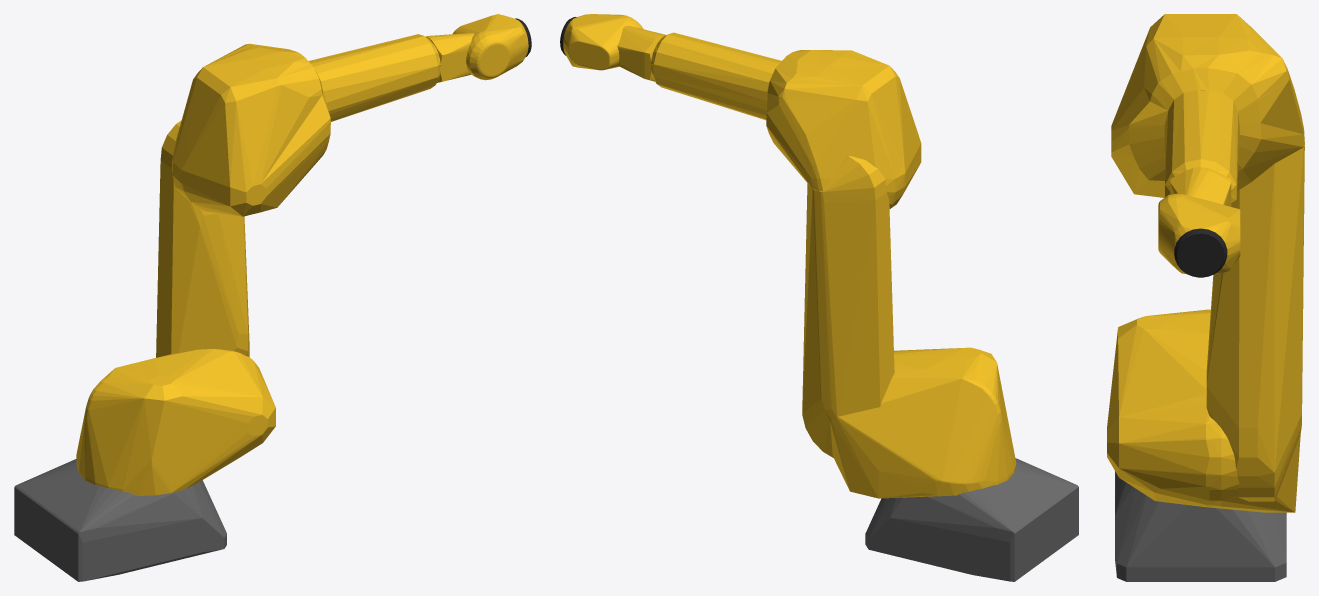
3 renders of one model, left to right at view 1: azimuth 30°, elevation 25°; view 2: azimuth 150°, elevation 25°; view 3: azimuth 270°, elevation 25°, orthographic. The views are drawn at different scales.
Parts seen in each view (by area): view 1: link_3, link_1, base_link, link_2, link_5, link_4; view 2: link_3, link_2, link_1, base_link, link_5, link_4; view 3: link_3, link_2, link_1, base_link, link_5, link_6, link_4.
Boxes of the visible parts, x1,y1,x2,y2 form: link_3: (172,34,440,216); link_1: (76,349,275,495); base_link: (14,459,226,581); link_2: (156,120,249,357); link_5: (452,14,528,80); link_4: (425,33,474,82); link_3: (651,32,921,208); link_2: (802,156,894,457); link_1: (830,347,1016,498); base_link: (865,458,1078,581); link_5: (563,14,643,70); link_4: (617,25,666,81); link_3: (1111,14,1304,207); link_2: (1206,142,1304,501); link_1: (1107,309,1300,512); base_link: (1115,471,1286,581); link_5: (1158,193,1240,274); link_6: (1174,228,1227,277); link_4: (1170,167,1231,206).
Bounding box in the file's own units: 1.89 × 0.5189 × 1.69.
